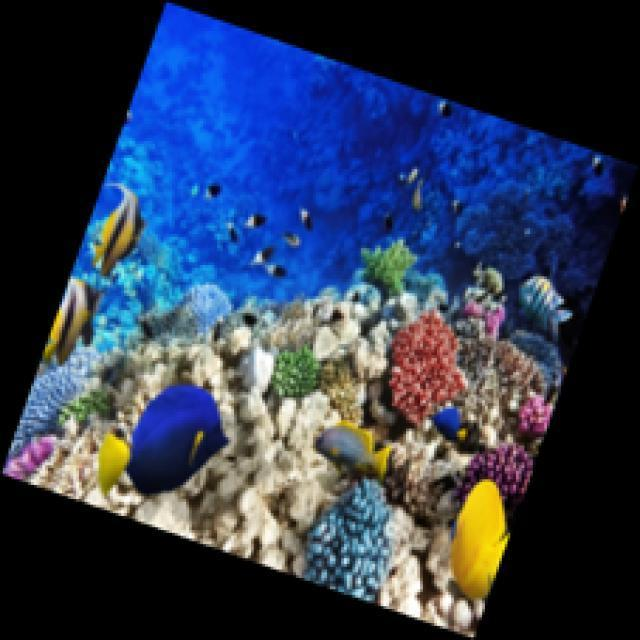Bleached: (21, 291, 551, 640)
Healthy: (305, 479, 392, 606), (6, 349, 102, 461), (389, 313, 471, 430), (456, 445, 536, 502), (271, 345, 324, 402), (362, 242, 419, 293), (5, 435, 58, 483), (465, 302, 506, 336), (58, 392, 106, 421), (519, 394, 551, 435)
